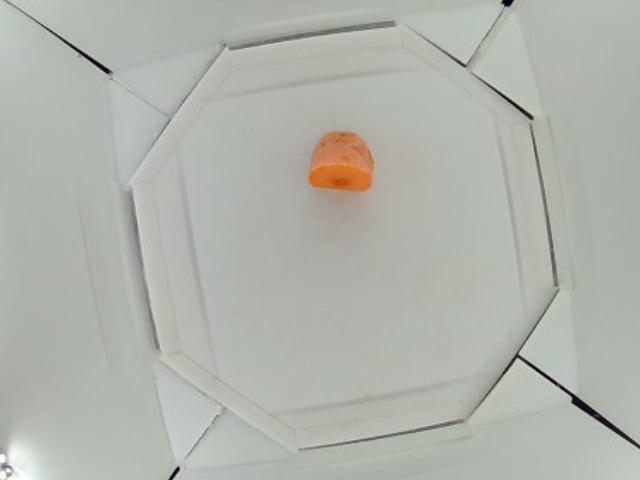Carrot: (310, 131, 376, 190)
